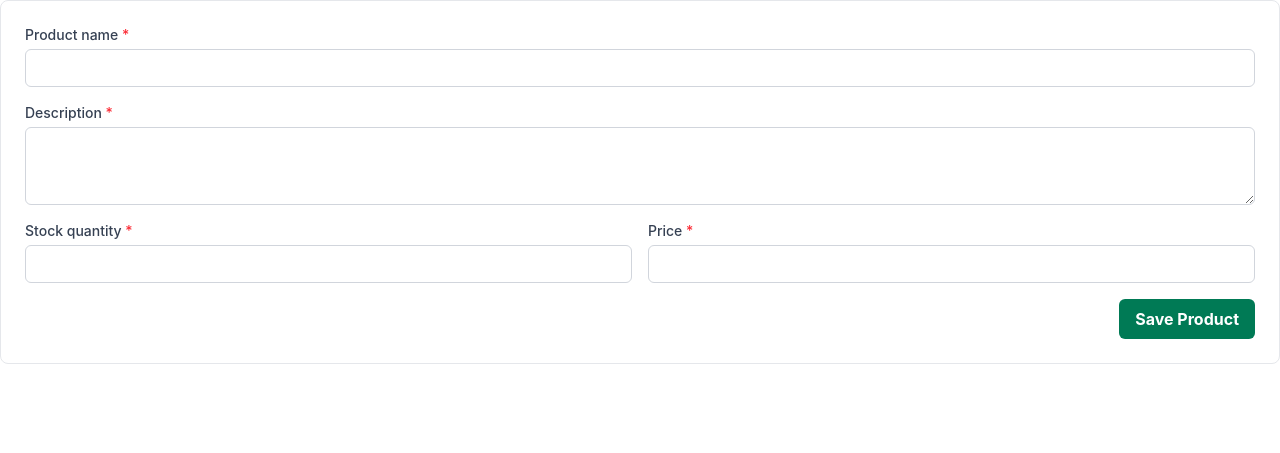
Test: ProductForm.vue › shows error if stock is less than 1
In the number field labelled "Stock quantity *": (328, 264) [25,245,632,283], type "0"
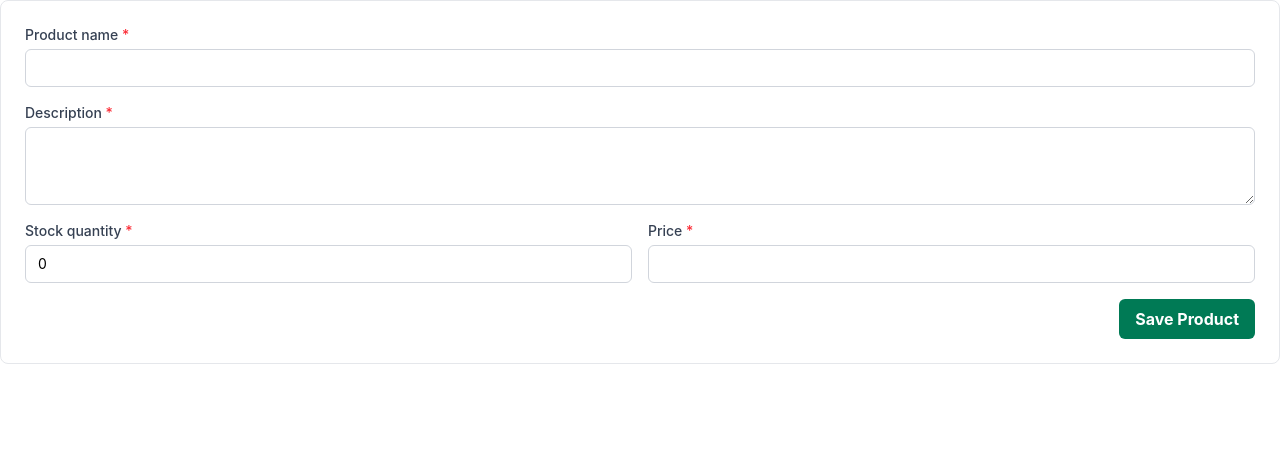
Submit the form
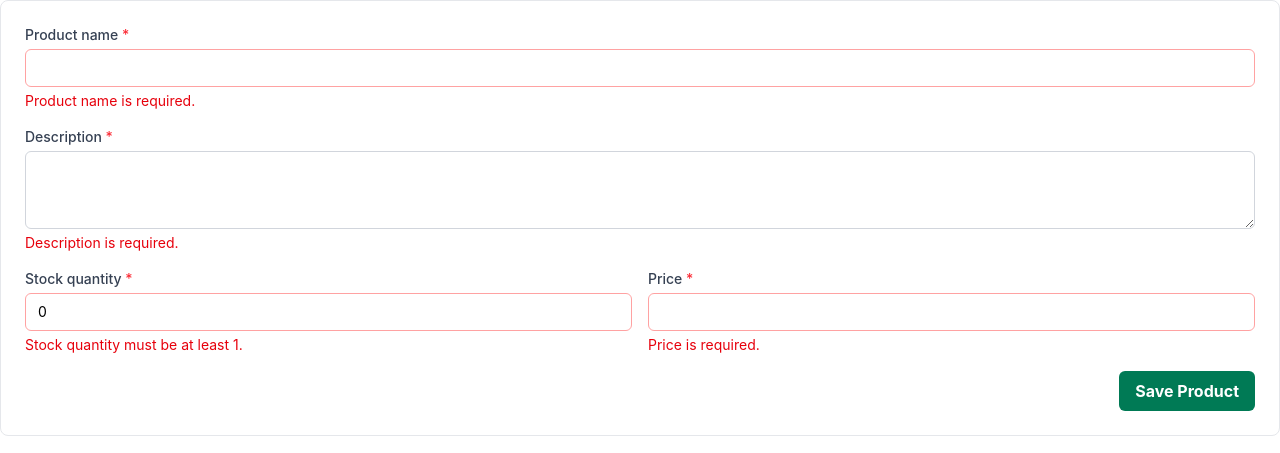
Expected: the form shows "Stock quantity must be at least 1.", [25,336,243,353]
